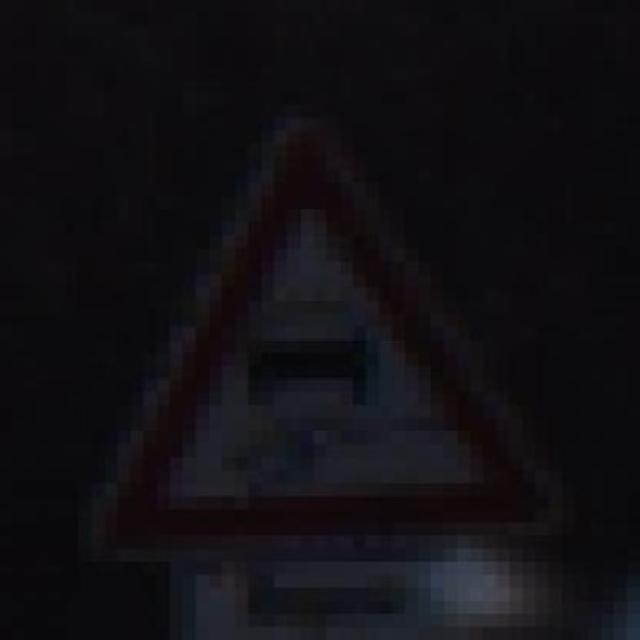Slippery Road Ahead: (78, 105, 560, 549)
